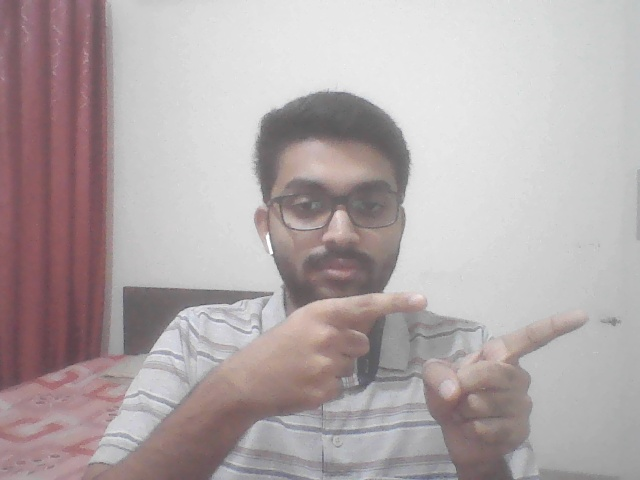go: (174, 285, 620, 465)
